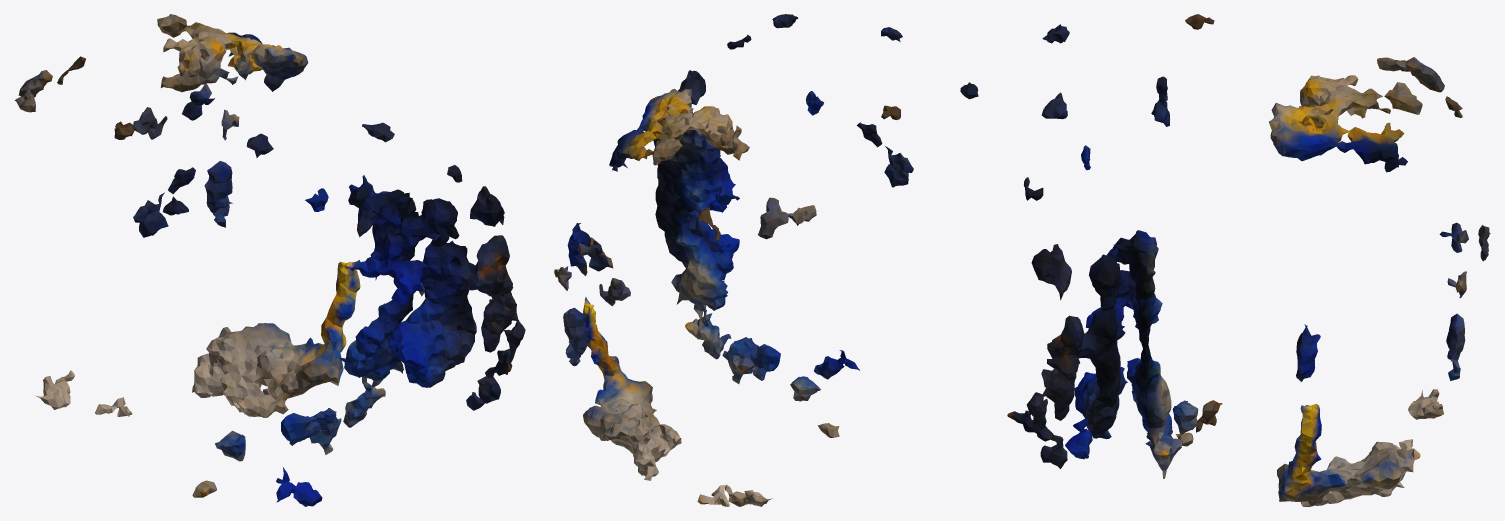
File: zero123_object_mesh.obj
The picture shows the model from 3 angles, left to right: view 1: azimuth 30°, elevation 25°; view 2: azimuth 150°, elevation 25°; view 3: azimuth 270°, elevation 25°; orthographic projection. The views are drawn at different scales.
Bounding box in the file's own units: 0.9843 × 1.06 × 1.12.
